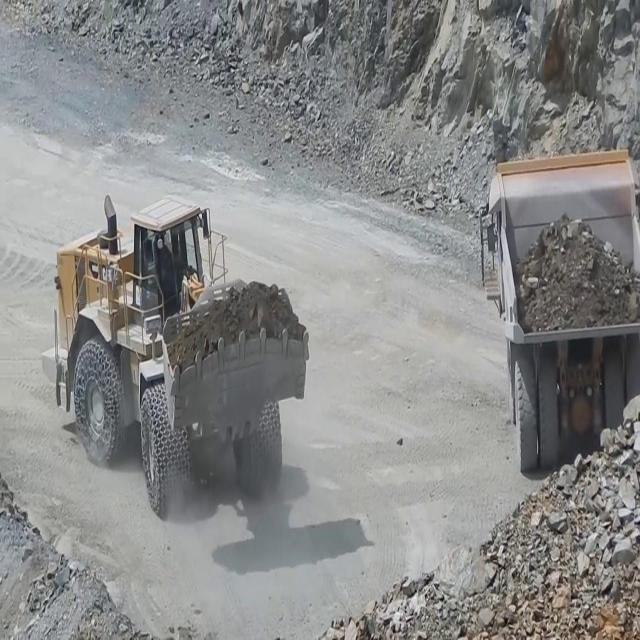Dump Truck: (476, 147, 640, 478)
Loader: (38, 192, 310, 527)
